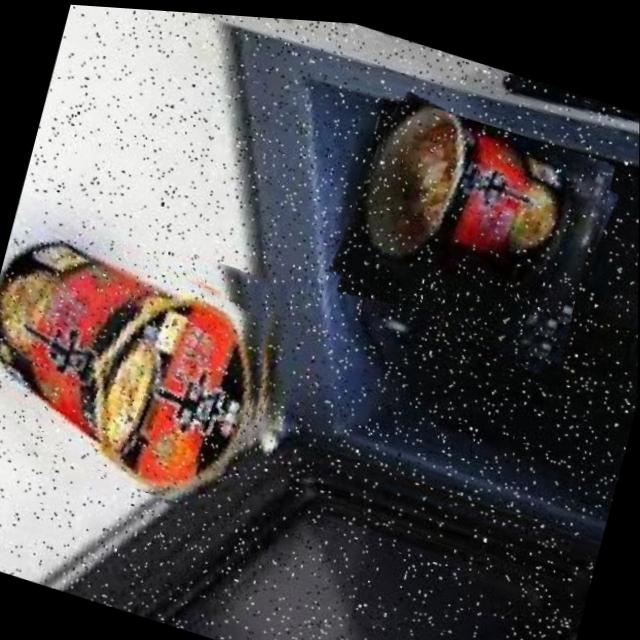Miscellaneous: (0, 190, 304, 521), (327, 81, 619, 368)
